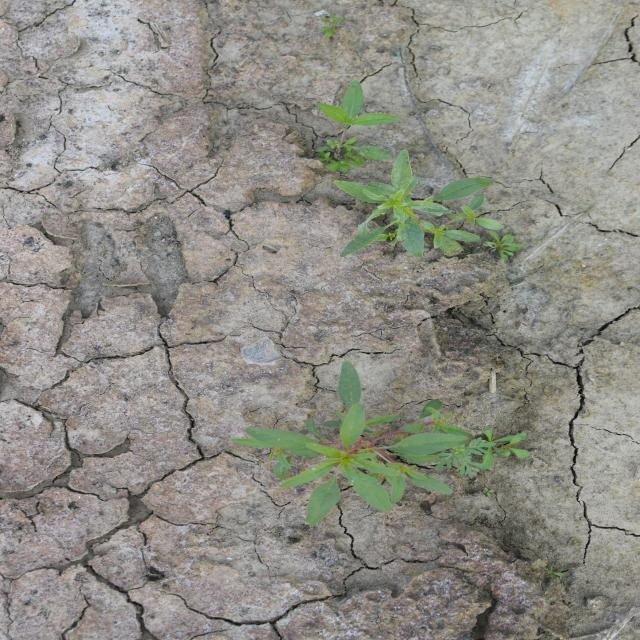Carpetweed: (469, 427, 532, 471)
Eclipta: (312, 79, 404, 173)
Ragweed: (429, 436, 498, 480)
Waterhemp: (229, 360, 471, 527), (333, 148, 505, 259)
